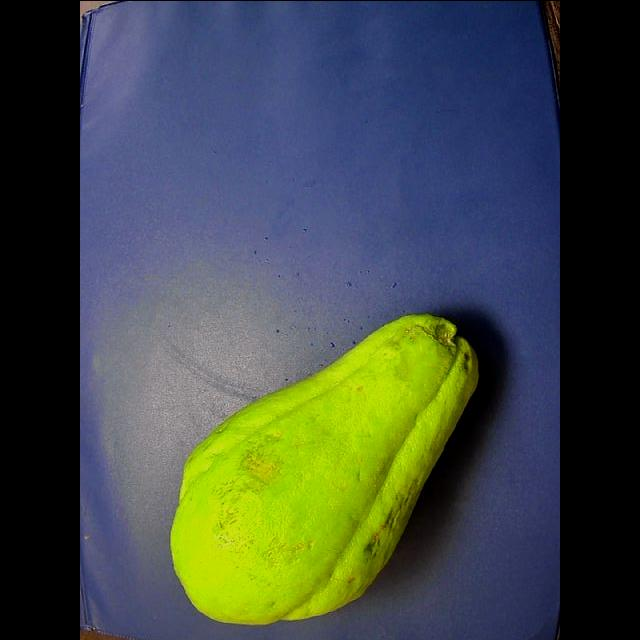chayote: (171, 314, 477, 624)
